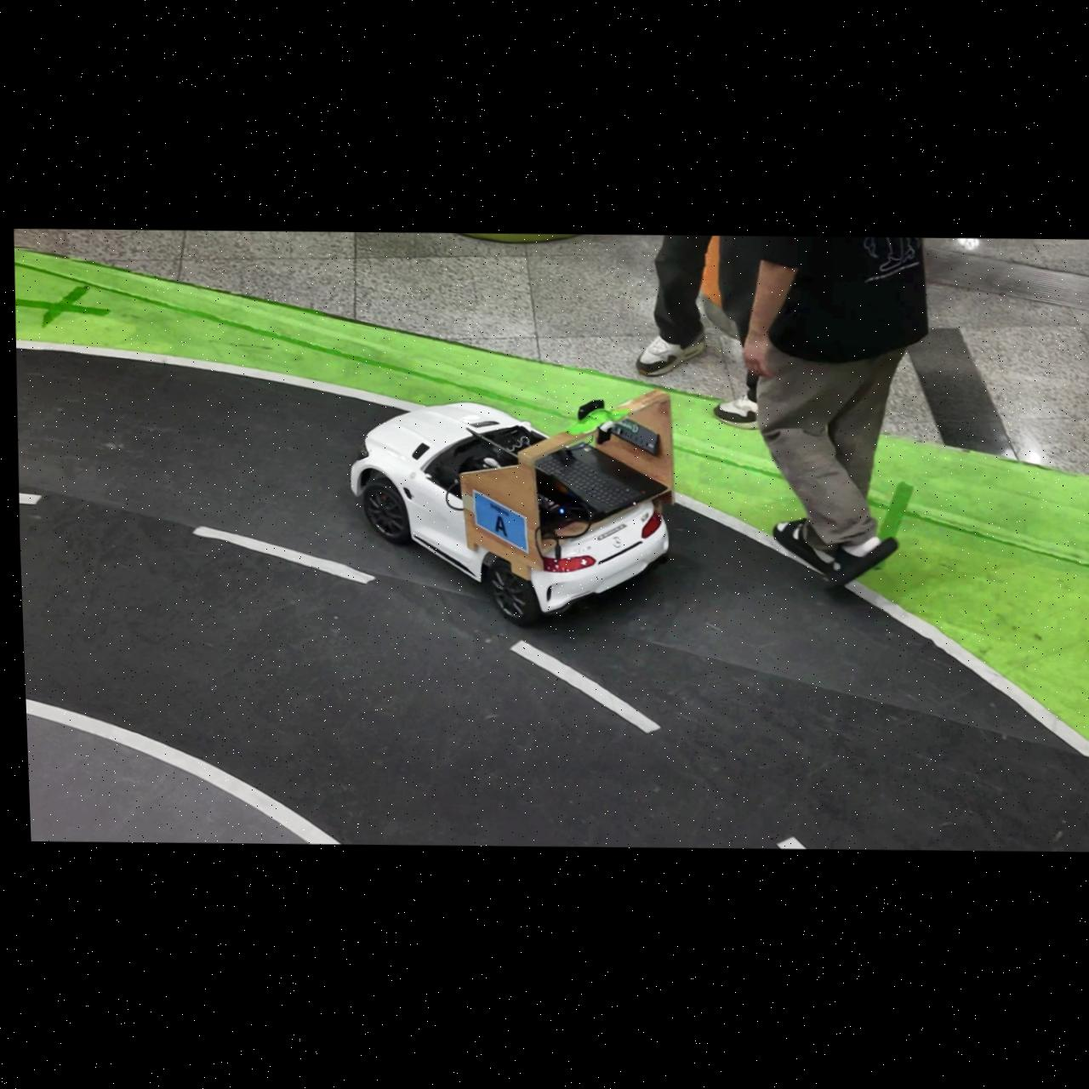broken_line: (511, 641, 662, 734), (193, 526, 377, 585), (776, 836, 807, 849), (19, 493, 42, 505)
